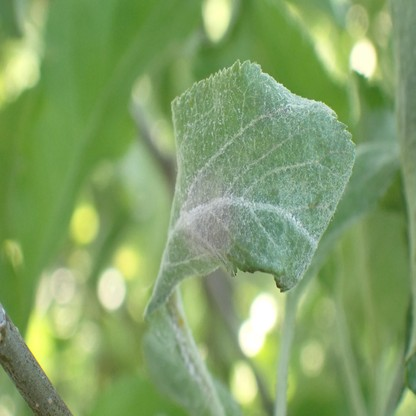powdery_mildew: (143, 59, 357, 320)
